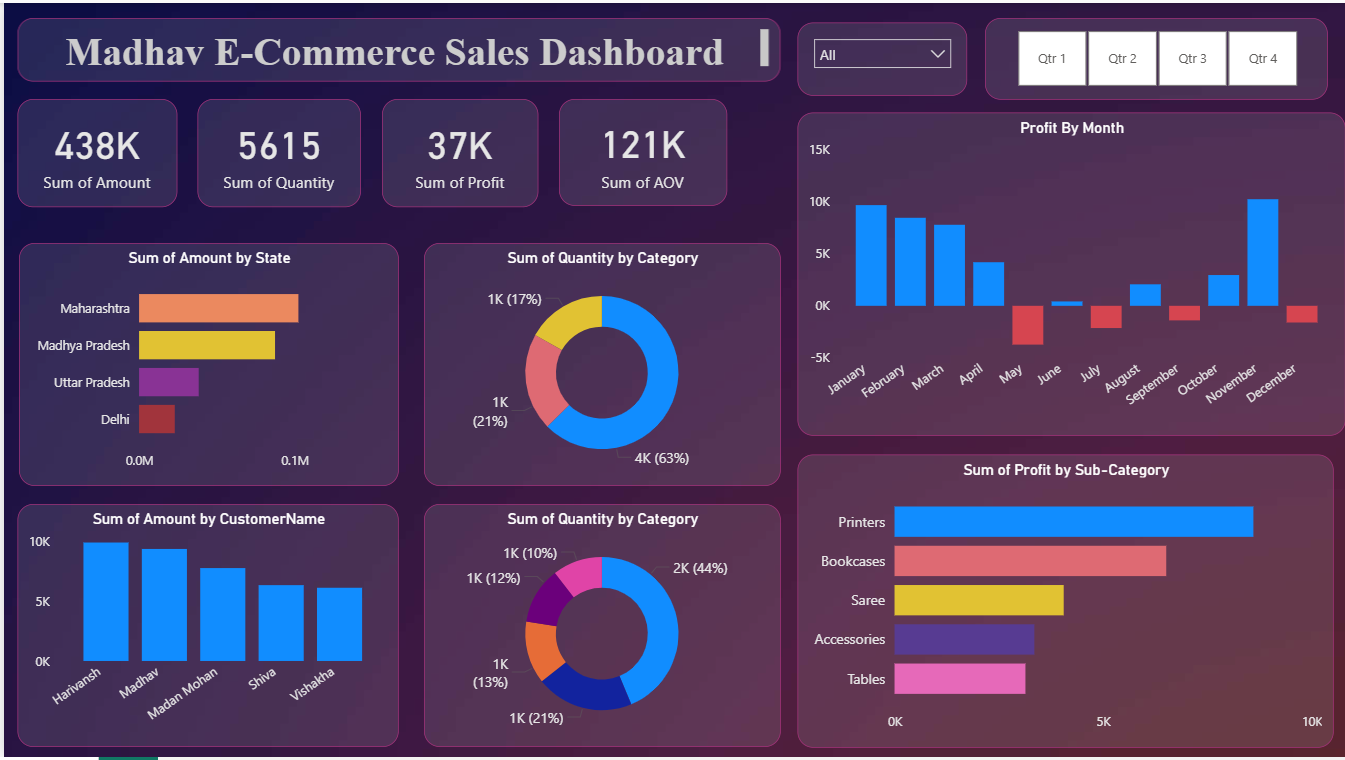

The page's visual inventory and layout, read from the dashboard file:
{"tool":"powerbi","page":{"name":"Page 1","canvas":[1280,720],"ordinal":0},"visuals":[{"type":"columnChart","title":"Profit By Month","fields":{"Y":["Details.Profit"],"Category":["Orders.Order Date.Variation.Date Hierarchy.Month"]},"box":[757.1,105,523.3,308.6],"z":0},{"type":"barChart","fields":{"Category":["Details.Sub-Category"],"Y":["Details.Profit"]},"box":[757.1,431.1,512.2,279.9],"z":1000},{"type":"donutChart","title":"Sum of Quantity by Category","fields":{"Category":["Details.Category"],"Y":["Details.Quantity"]},"box":[400.8,229,340.4,232.2],"z":2000},{"type":"donutChart","title":"Sum of Quantity by Category","fields":{"Y":["Details.Quantity"],"Category":["Details.PaymentMode"]},"box":[400.8,478.8,340.4,232.2],"z":3000},{"type":"card","fields":{"Values":["Details.Amount"]},"box":[12.7,92.3,152.7,103.4],"z":4000},{"type":"card","fields":{"Values":["Details.Quantity"]},"box":[184.5,92.3,155.9,103.4],"z":5000},{"type":"card","fields":{"Values":["Details.Profit"]},"box":[361.1,92.3,149.5,103.4],"z":6000},{"type":"card","fields":{"Values":["Details.AOV"]},"box":[529.7,92.3,160.7,101.8],"z":7000},{"type":"barChart","fields":{"Category":["Orders.State"],"Y":["Details.Amount"]},"box":[14.3,229,362.7,232.2],"z":8000},{"type":"columnChart","fields":{"Category":["Orders.CustomerName"],"Y":["Details.Amount"]},"box":[12.7,478.8,364.2,232.2],"z":9000},{"type":"textbox","box":[12.7,14.3,728.5,60.4],"z":10000},{"type":"slicer","fields":{"Values":["Orders.Order Date.Variation.Date Hierarchy.Quarter"]},"box":[936.9,14.3,327.7,77.9],"z":10001},{"type":"slicer","fields":{"Values":["Orders.State"]},"box":[757.1,19.1,162.2,70],"z":10002}]}

Visuals, with their boxes in screenshot pixels (x1, y1, x2, y2), scaled from the page's 1280x720 canvas onto the 1345x760 screenshot:
"Profit By Month" columnChart: (796, 111, 1344, 437)
barChart - Details.Sub-Category x Details.Profit: (796, 455, 1334, 750)
"Sum of Quantity by Category" donutChart: (421, 242, 779, 487)
"Sum of Quantity by Category" donutChart: (421, 505, 779, 750)
card - Details.Amount: (13, 97, 174, 207)
card - Details.Quantity: (194, 97, 358, 207)
card - Details.Profit: (379, 97, 537, 207)
card - Details.AOV: (557, 97, 725, 205)
barChart - Orders.State x Details.Amount: (15, 242, 396, 487)
columnChart - Orders.CustomerName x Details.Amount: (13, 505, 396, 750)
textbox: (13, 15, 779, 79)
slicer - Orders.Order Date.Variation.Date Hierarchy.Quarter: (984, 15, 1329, 97)
slicer - Orders.State: (796, 20, 966, 94)
